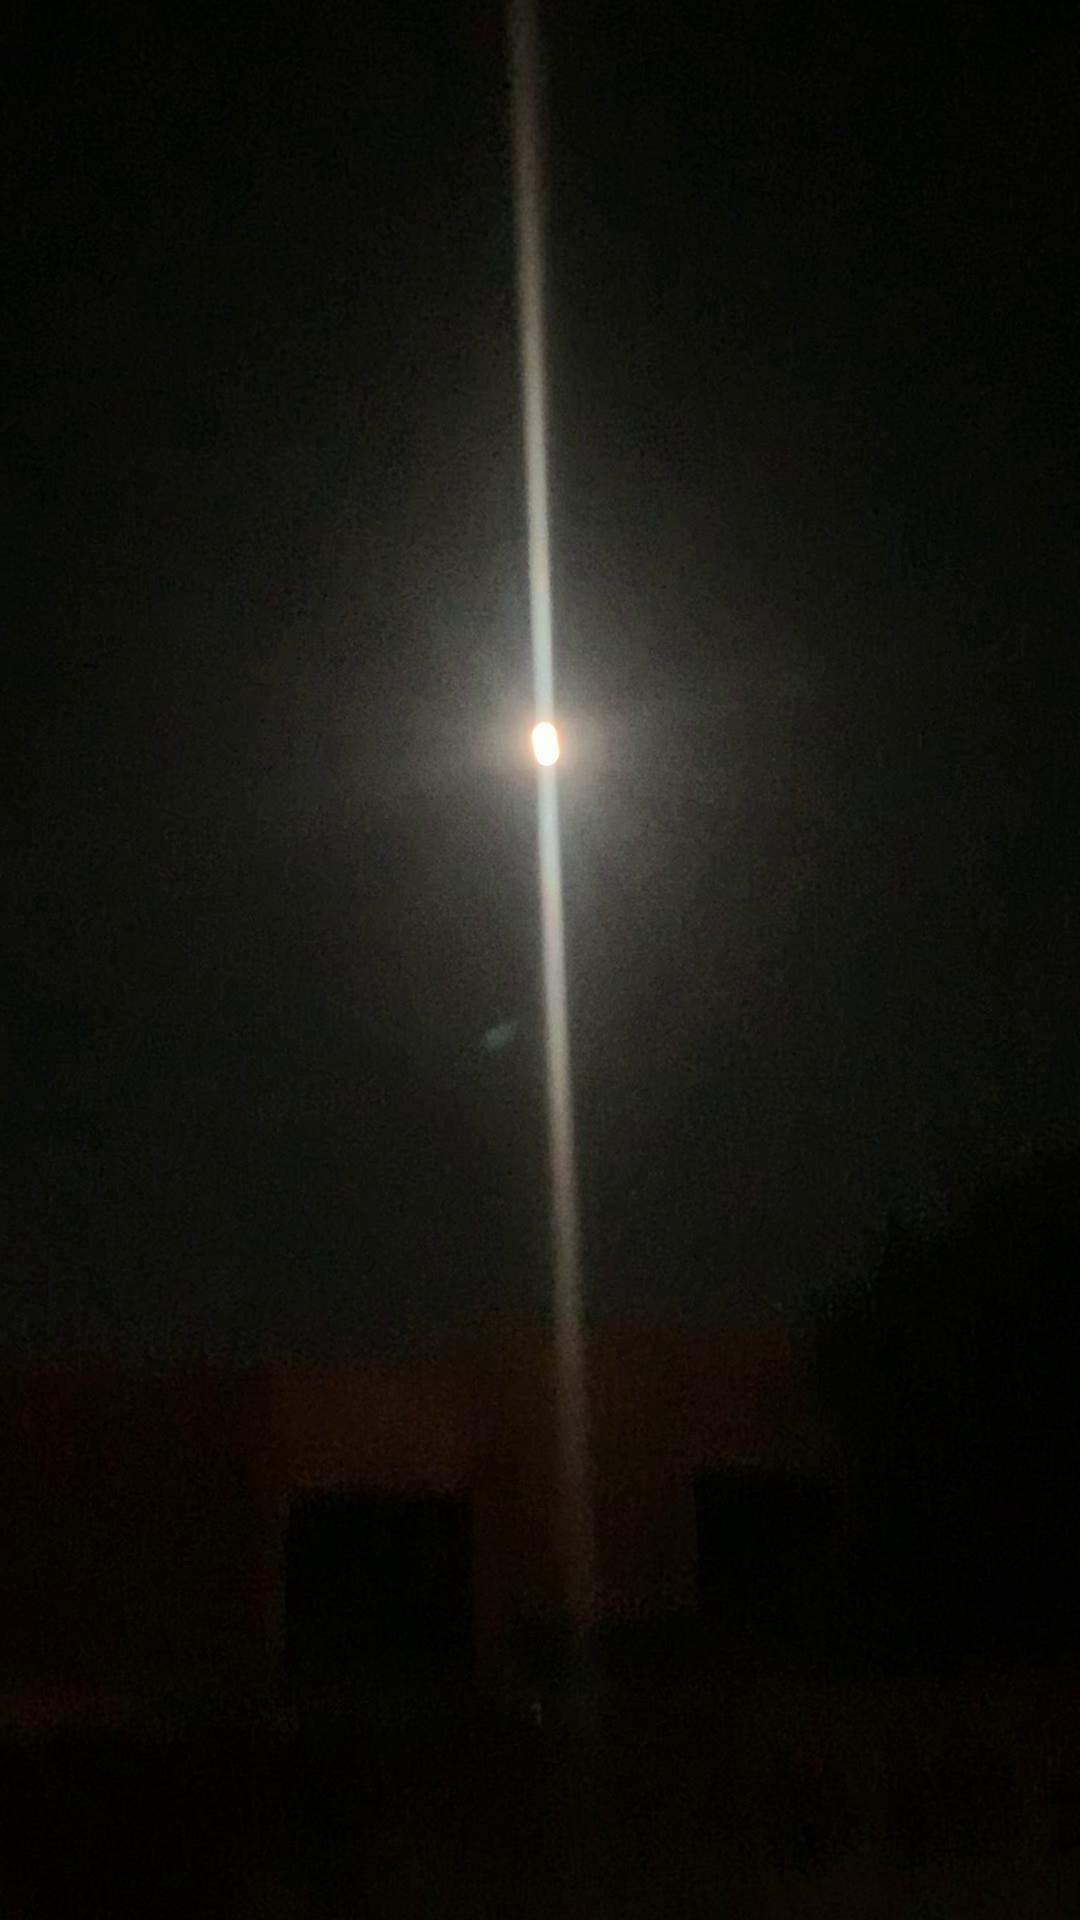moon: (513, 716, 588, 795)
